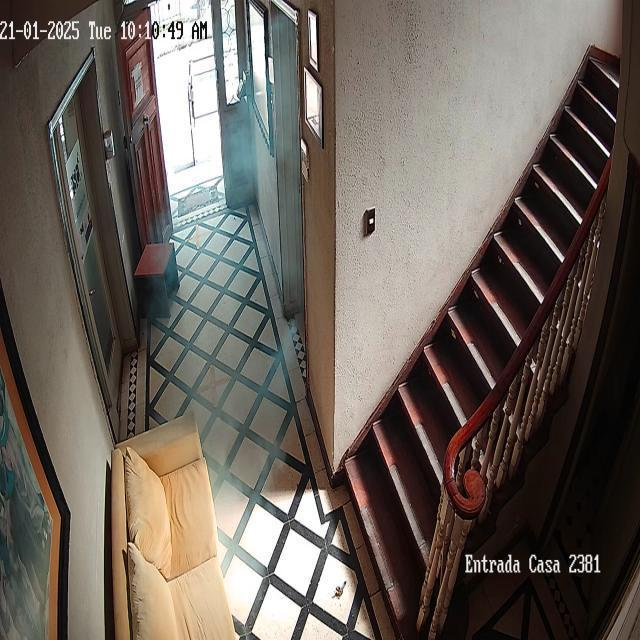fire: (142, 4, 305, 592)
